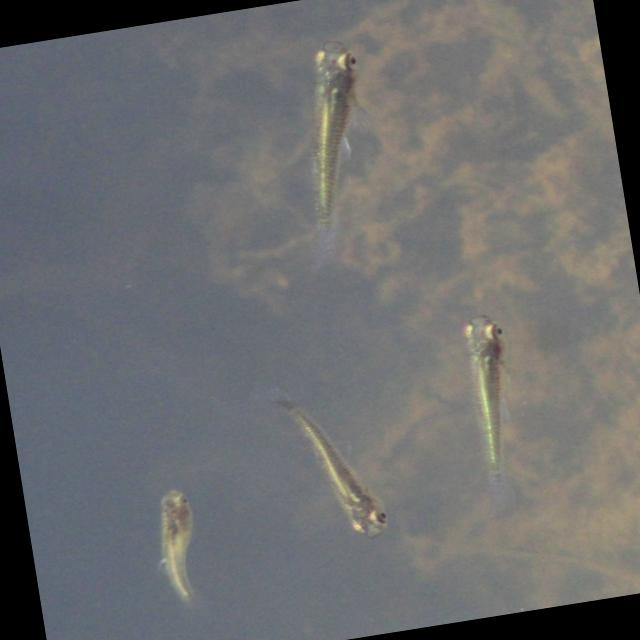Sivrisinek Baligi: (276, 34, 391, 264), (266, 380, 398, 548), (458, 304, 532, 478), (134, 472, 220, 608)
